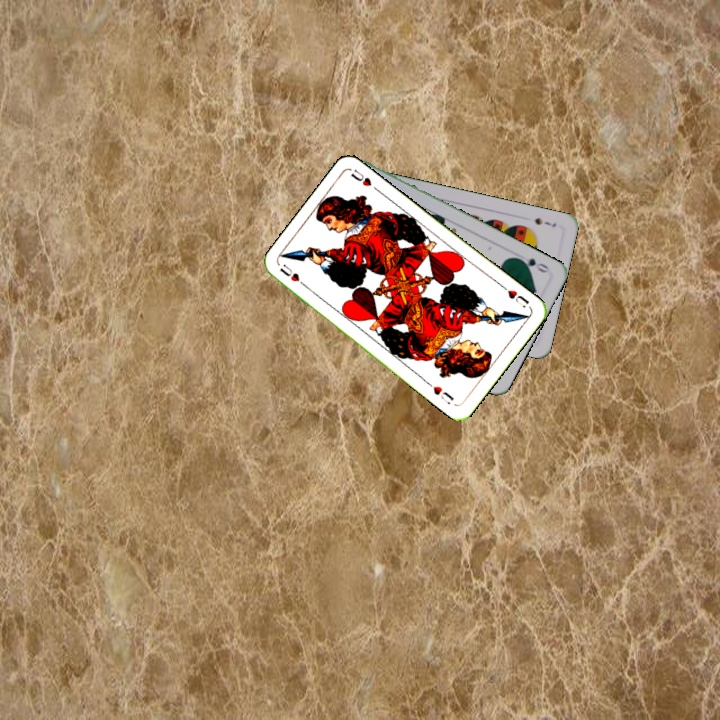GO: (513, 254, 551, 275)
HU: (276, 260, 310, 290), (498, 282, 531, 307)
S7: (531, 214, 559, 230)
